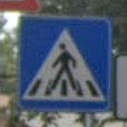trecere_pietoni: (16, 12, 116, 115)
